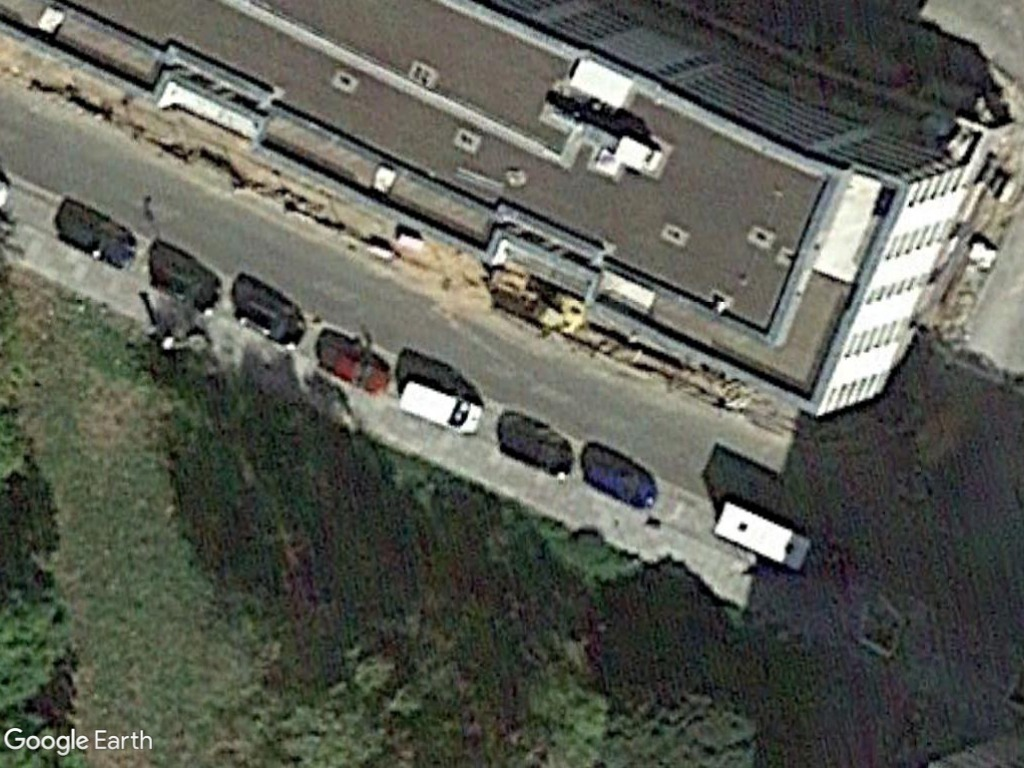van: (391, 372, 492, 443)
